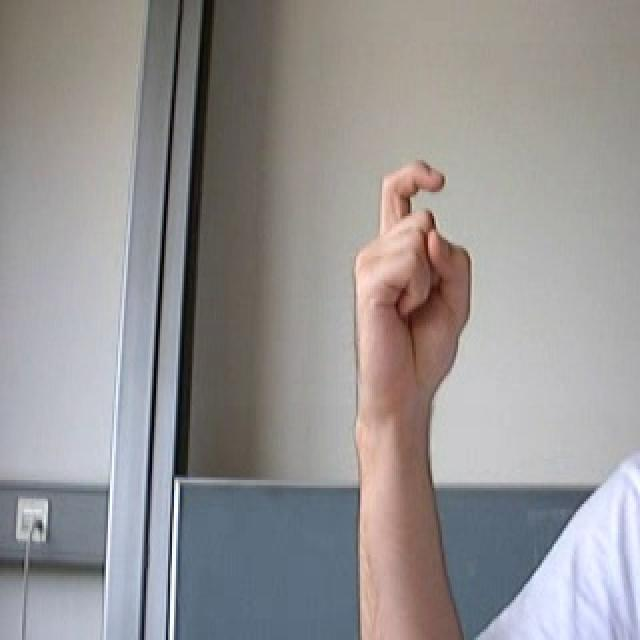X: (316, 128, 502, 441)
